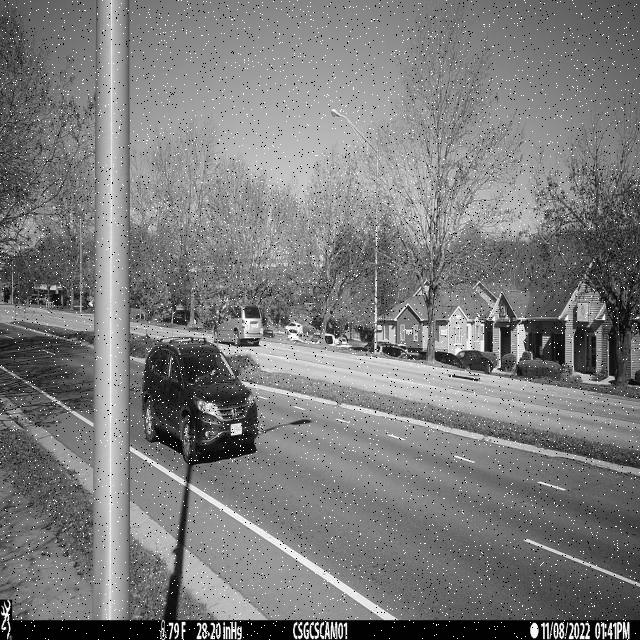SUV: (142, 337, 259, 464)
